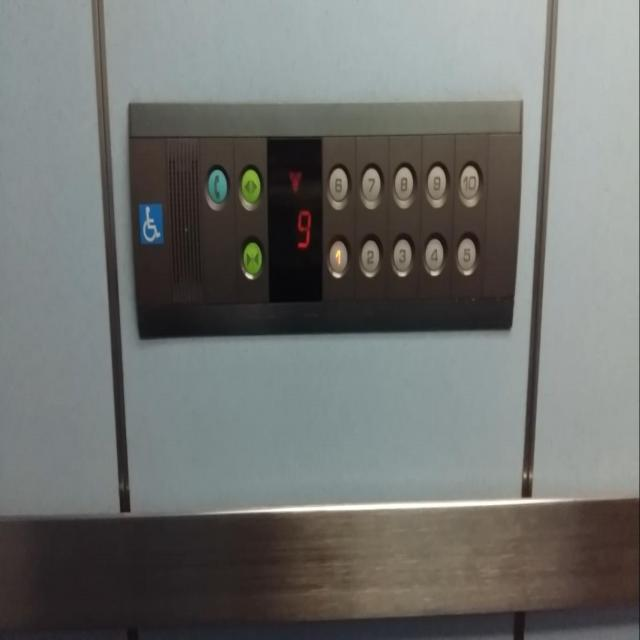1: (325, 232, 351, 278)
10: (457, 160, 483, 208)
2: (358, 232, 383, 278)
3: (389, 232, 415, 276)
4: (422, 231, 448, 275)
5: (454, 230, 480, 275)
6: (326, 162, 351, 210)
7: (358, 163, 384, 209)
8: (391, 161, 417, 208)
9: (424, 159, 450, 208)
CH: (138, 200, 164, 248)
call: (204, 162, 230, 212)
close: (238, 235, 266, 279)
led: (264, 132, 324, 306)
open: (237, 164, 264, 211)
